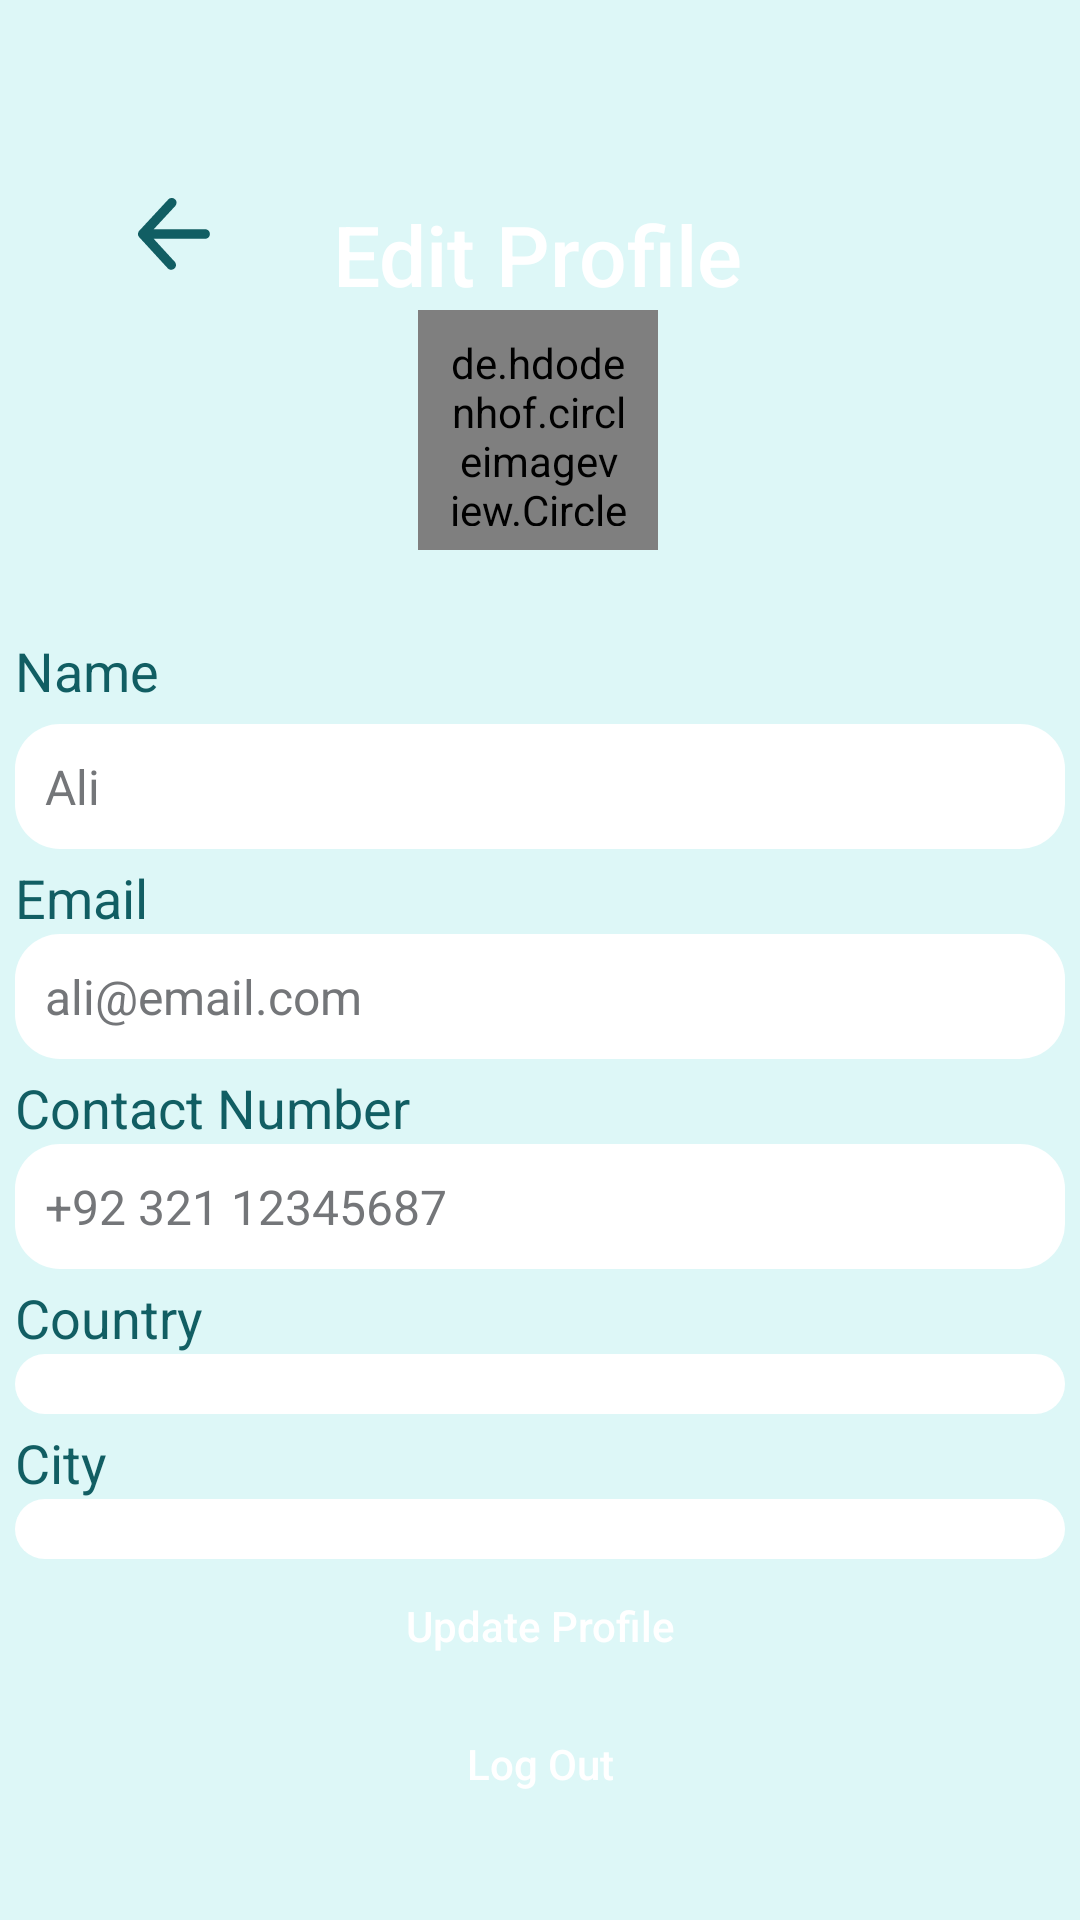

Icons on this 1080*1920 Android screen, each with the point to tap as [x,y]:
back: [174,234]
